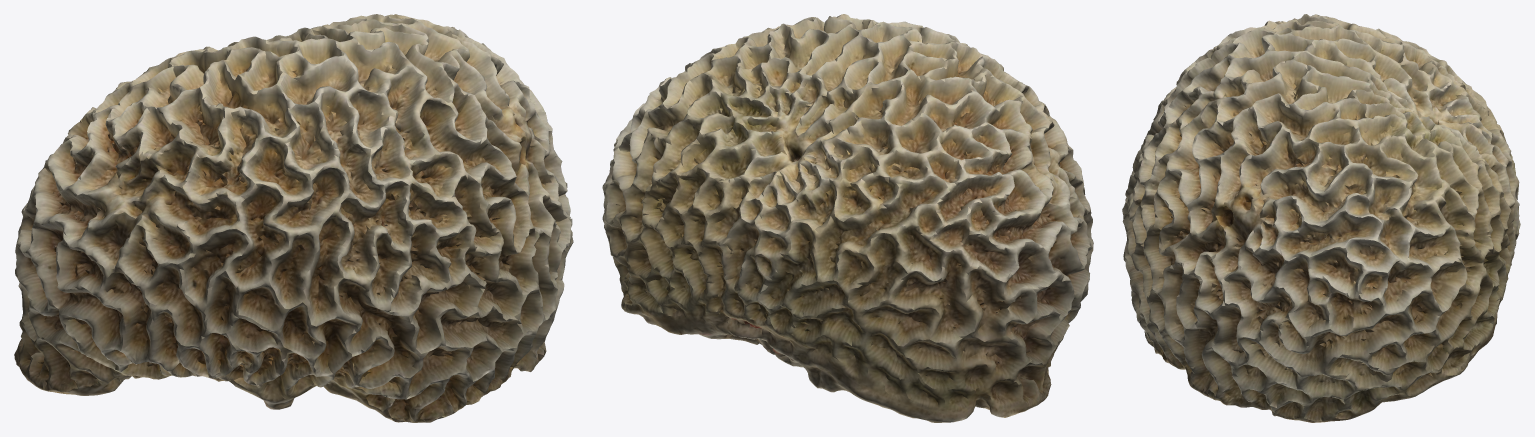
The model's file is coral goniastrea.glb.
3 renders of one model, left to right at view 1: azimuth 30°, elevation 25°; view 2: azimuth 150°, elevation 25°; view 3: azimuth 270°, elevation 25°, orthographic. The views are drawn at different scales.
Visible parts, largest first — view 1: Object_4, Object_5; view 2: Object_4, Object_5; view 3: Object_4, Object_5.
Boxes of the visible parts, box(x1,y1,x2,y2) form: Object_4: box(14, 14, 573, 422); Object_5: box(36, 167, 573, 376); Object_4: box(602, 14, 1093, 422); Object_5: box(613, 91, 1092, 396); Object_4: box(1122, 14, 1520, 422); Object_5: box(1172, 240, 1516, 422).
Size of the model in its own units: 0.0912 by 0.0593 by 0.0718.
1 material, 1 textured.
